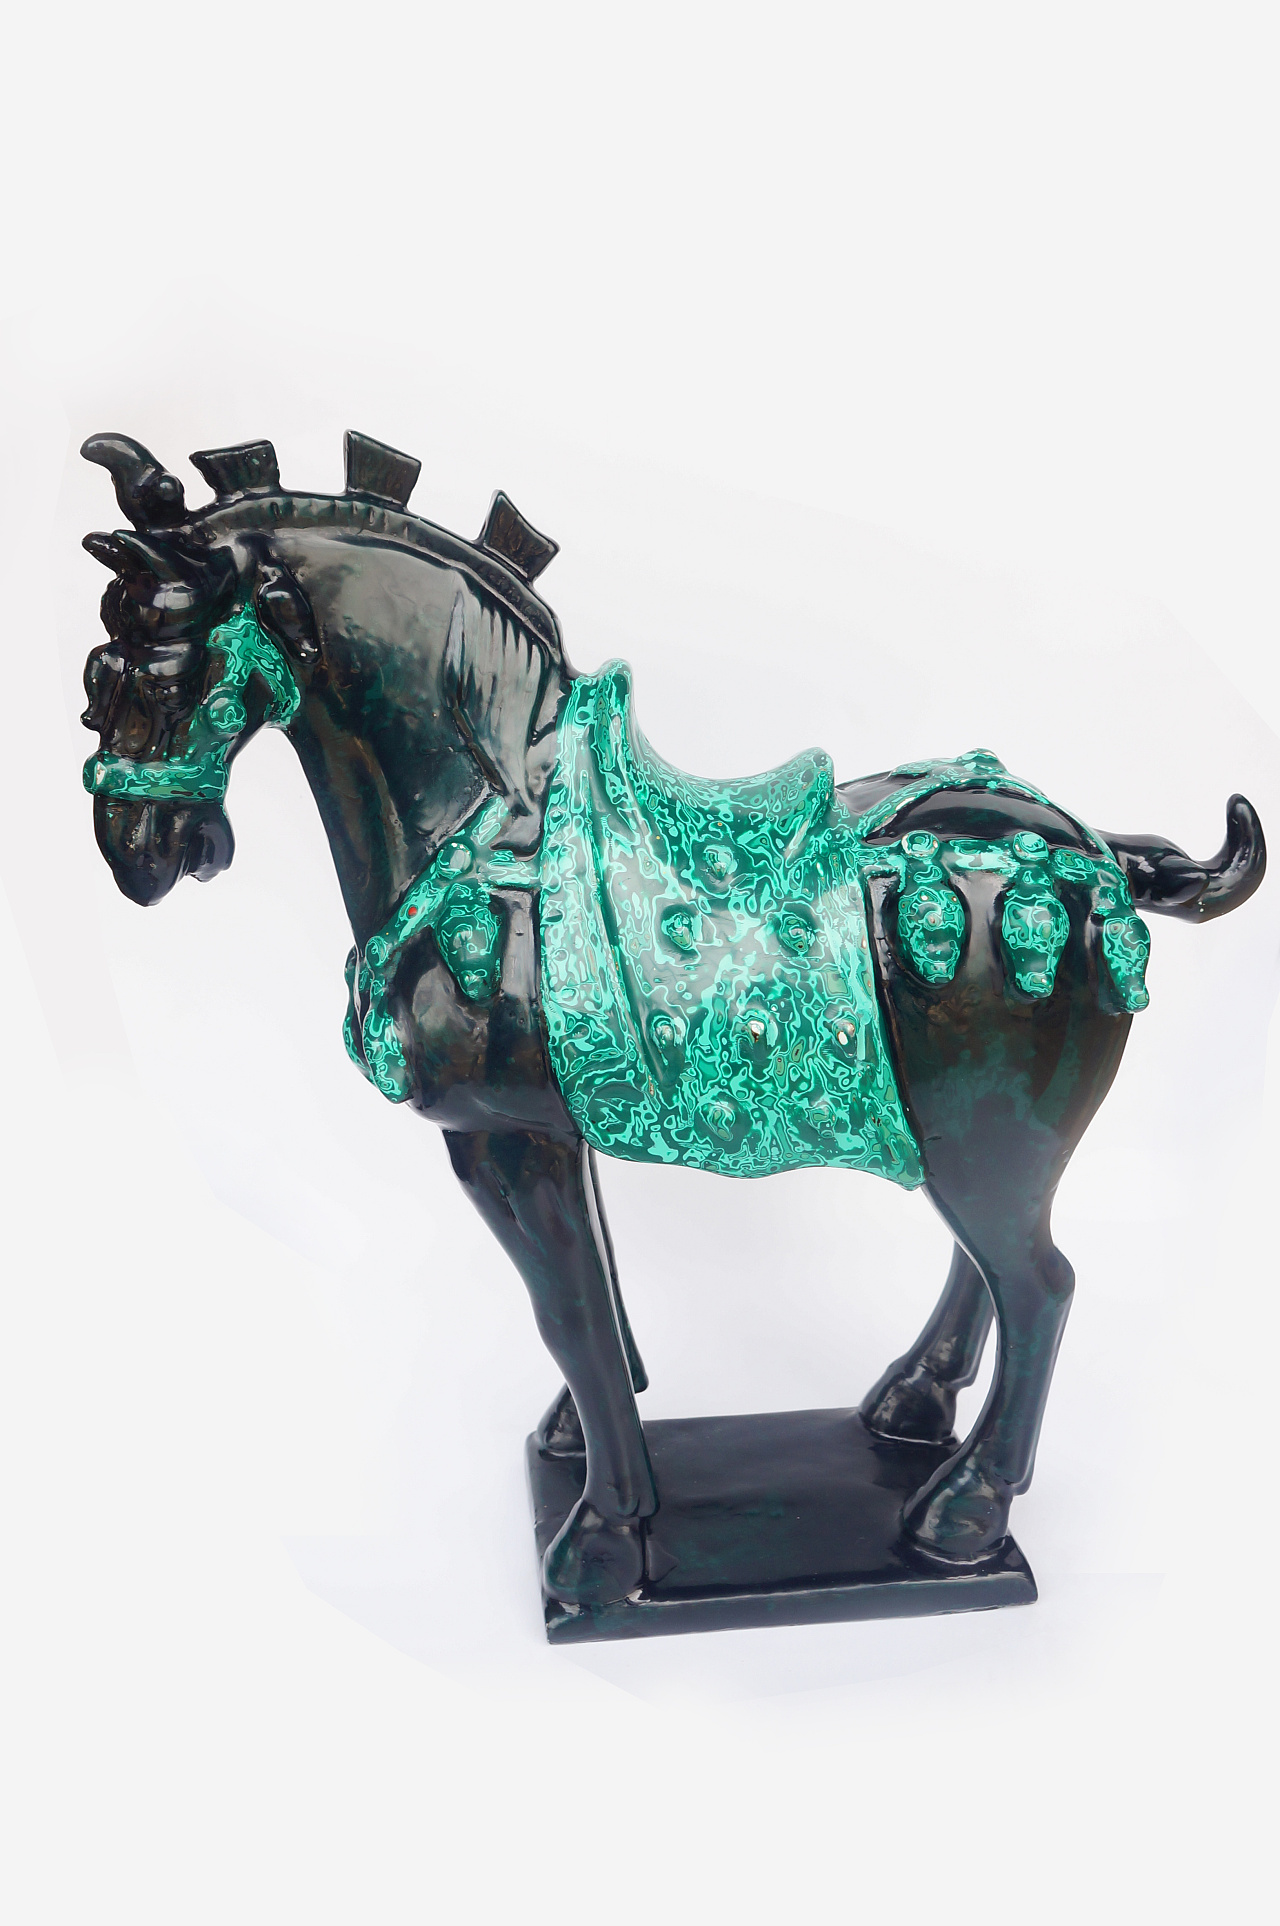background: (81, 434, 1204, 1655)
